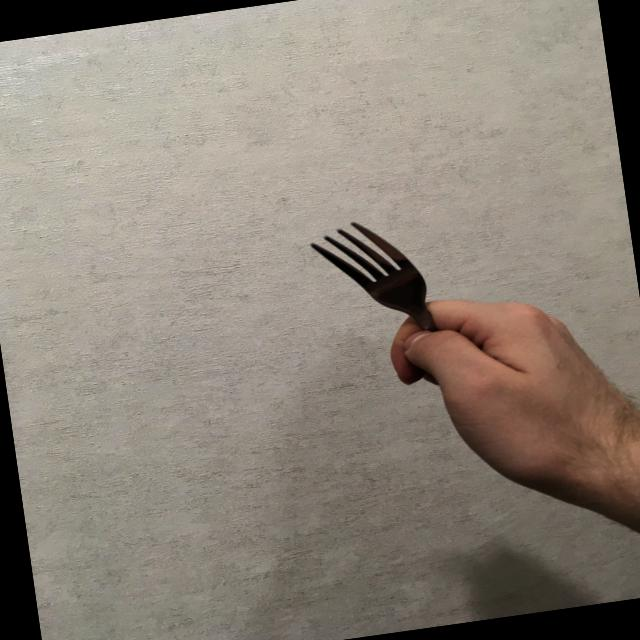fork: (308, 208, 450, 402)
